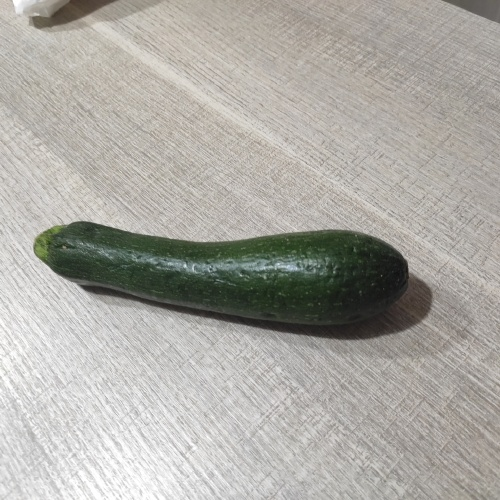zucchine: (33, 216, 414, 334)
